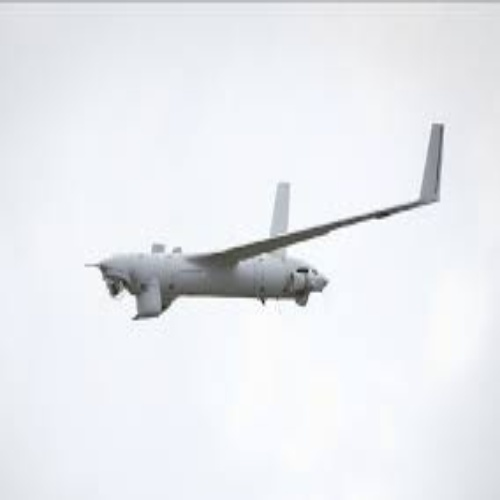uav: (81, 122, 449, 319)
